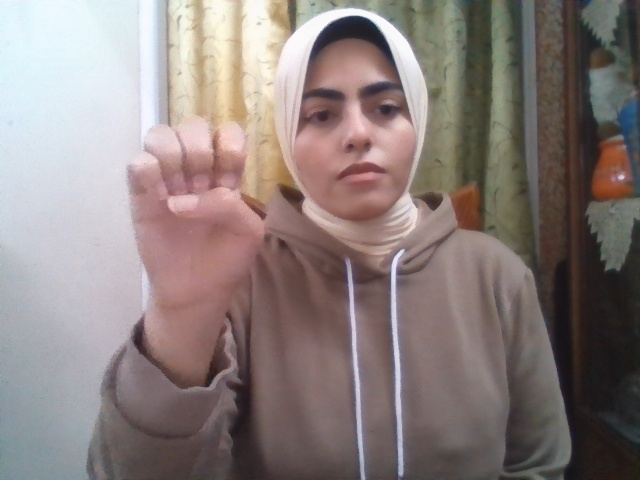E: (128, 116, 264, 315)
